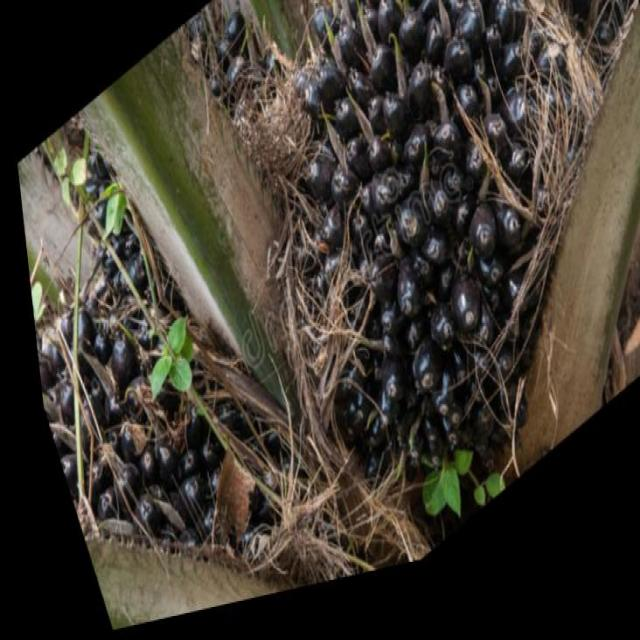Unripe: (211, 0, 640, 584)
